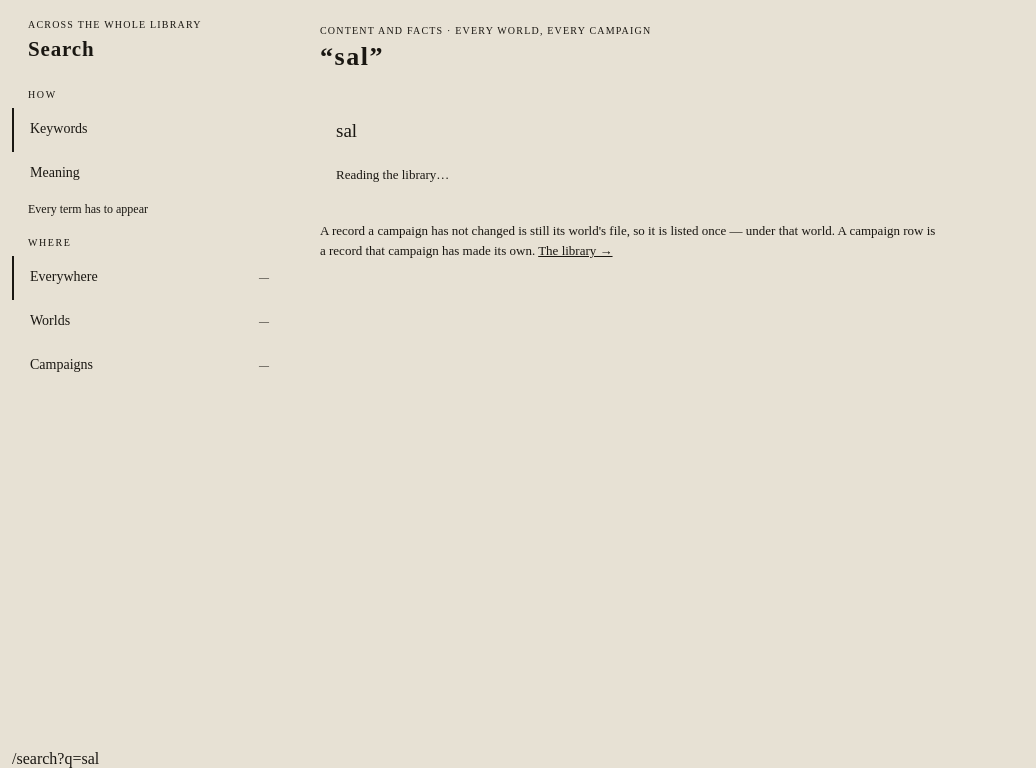
Scenario: a slow answer for an old query never lands on top of a newer one
Replace the text in the search field named "search the library" with "salt" at (661, 131), box x1=320 y1=105 x2=1002 y2=157
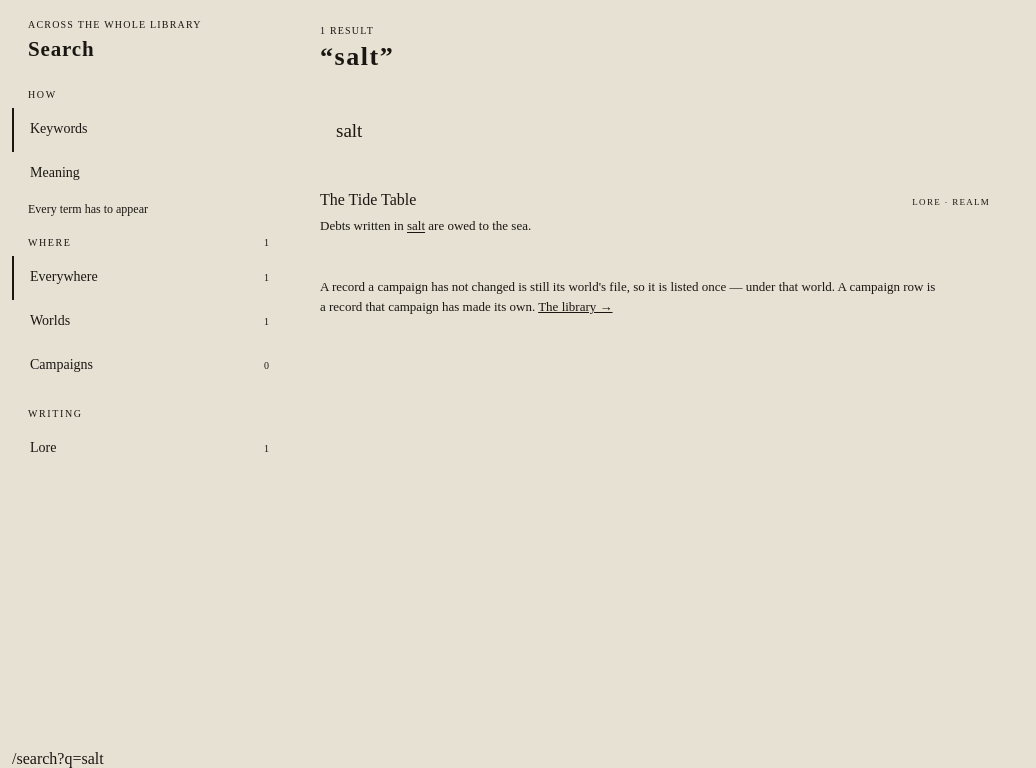
Expected: the text with test id "where" shows "q=salt", x1=12 y1=750 x2=104 y2=767
Expected: the link "The Tide Table" is shown, x1=320 y1=191 x2=990 y2=234
